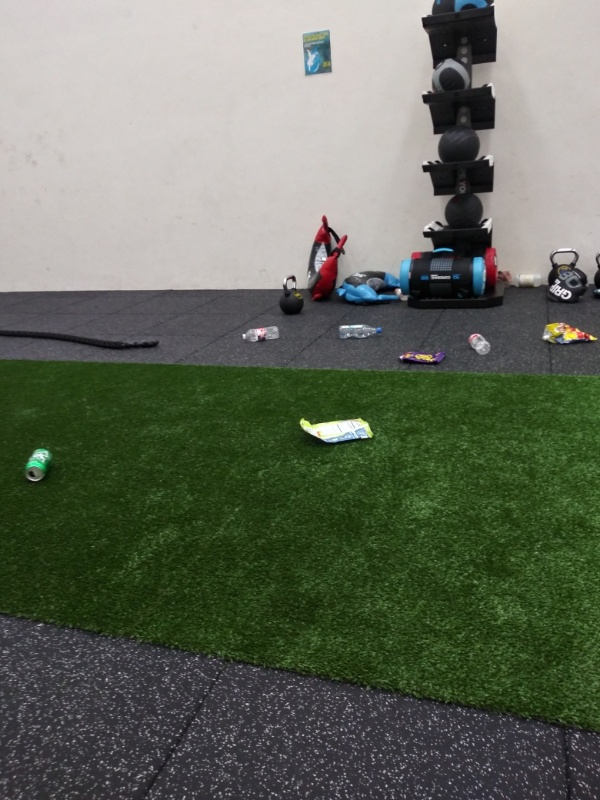bag: (291, 412, 380, 450), (538, 316, 600, 347), (392, 347, 452, 365)
bottle: (329, 319, 387, 341), (458, 327, 496, 359), (235, 324, 283, 346)
can: (20, 443, 58, 486)
